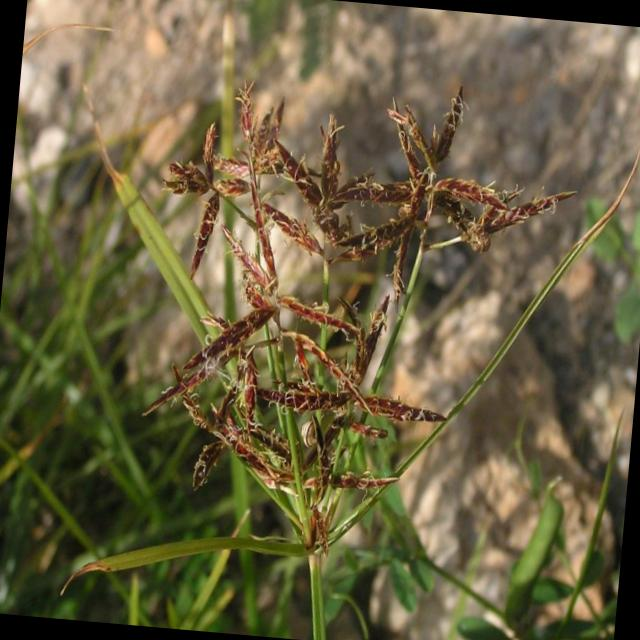cyperus: (122, 68, 586, 568)
